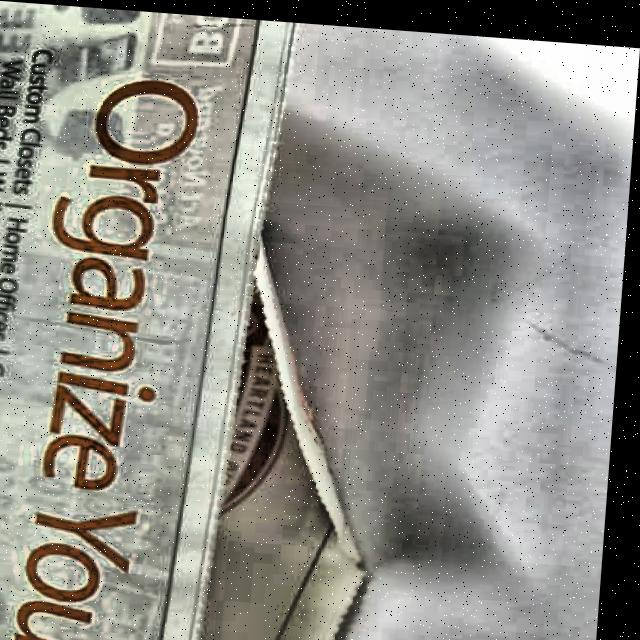paper: (0, 0, 412, 640)
